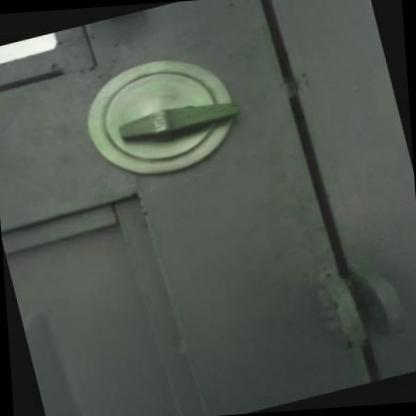lock: (58, 16, 332, 196)
